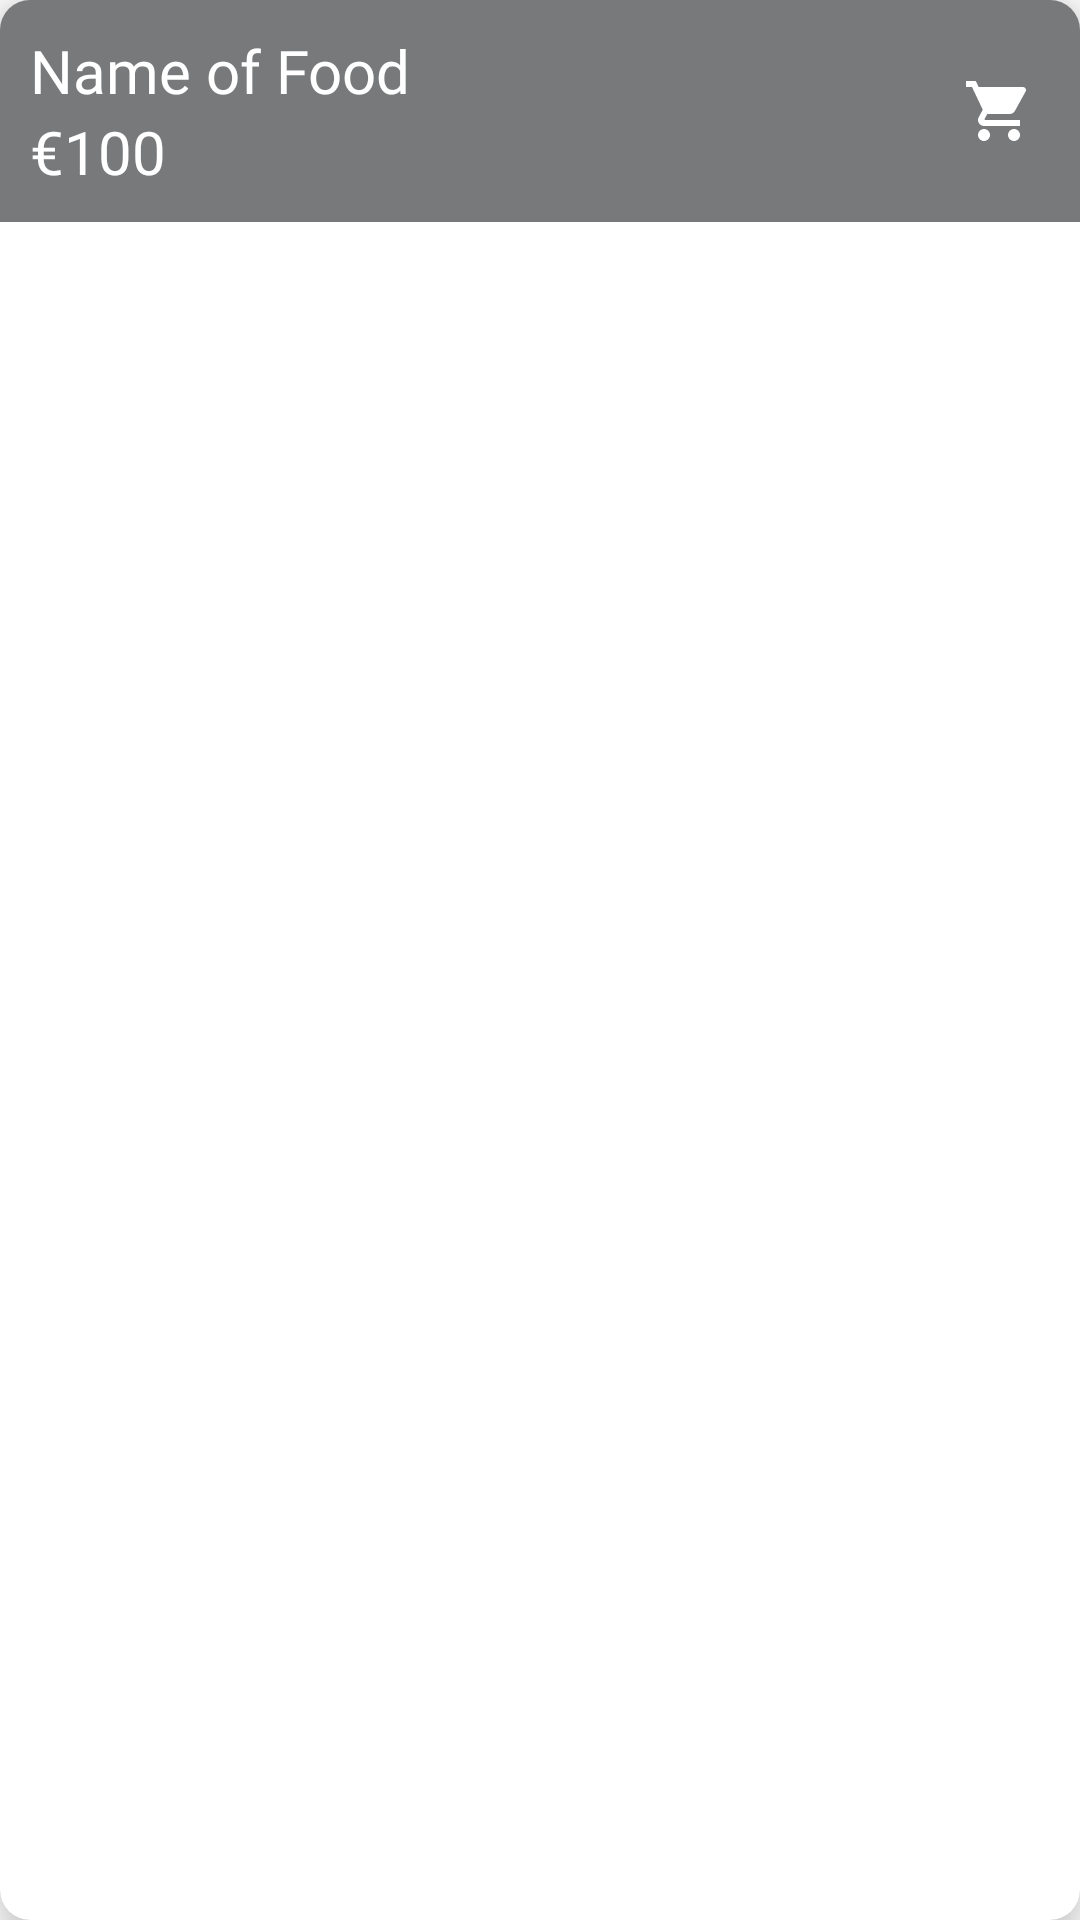

Where to tap for icons on this 1080*1920 app screen, as (x,y):
shopping cart: (996,111)
